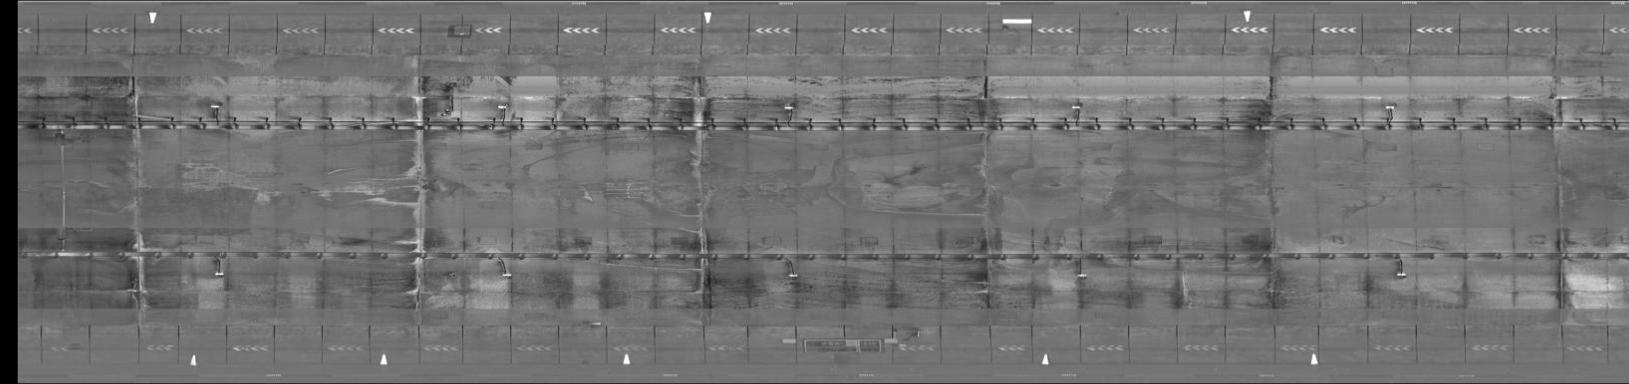light: (208, 266, 235, 283), (491, 102, 515, 114), (495, 269, 518, 281), (1392, 267, 1411, 281), (207, 100, 226, 113), (782, 270, 804, 281), (1071, 269, 1091, 281), (1379, 103, 1400, 113), (781, 102, 799, 114), (1065, 102, 1085, 112)
